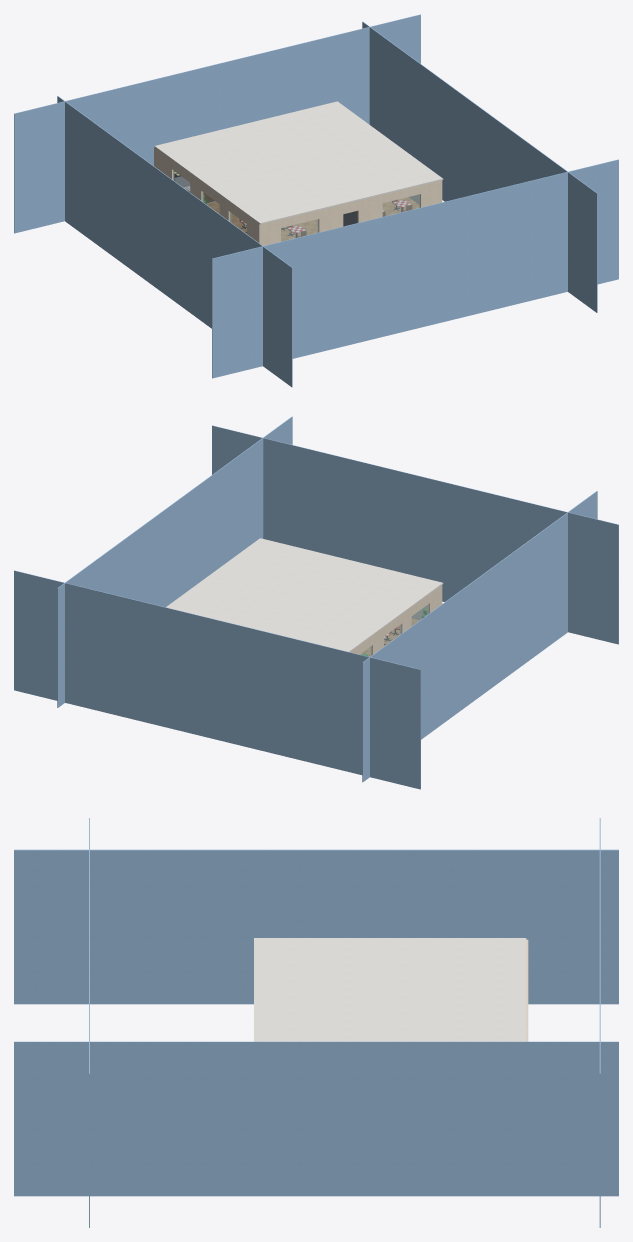
Rendered from interior.glb.
The picture shows the model from 3 angles, top to bottom: view 1: azimuth 30°, elevation 25°; view 2: azimuth 150°, elevation 25°; view 3: azimuth 270°, elevation 25°; orthographic projection. The views are drawn at different scales.
Parts seen in each view (by area): view 1: Sky_Front, Sky_Back, Sky_West, Ceiling, Sky_East, House_Floor_Main, Walls_Front_01, Walls_Front_02, Walls_Front_Glass2, Walls_Front_Glass0; view 2: Sky_Back, Sky_Front, Sky_West, Ceiling, Sky_East; view 3: Sky_East, Sky_West, Ceiling, Sky_Back.
Boxes of the visible parts, x1,y1,x2,y2 form: Sky_Front: (212,159,618,378); Sky_Back: (14,14,420,233); Sky_West: (57,96,292,387); Ceiling: (154,101,443,224); Sky_East: (362,21,597,312); House_Floor_Main: (206,197,419,241); Walls_Front_01: (317,204,343,232); Walls_Front_02: (357,195,382,222); Walls_Front_Glass2: (382,194,420,216); Walls_Front_Glass0: (281,219,318,241); Sky_Back: (14,570,420,789); Sky_Front: (212,425,618,644); Sky_West: (362,491,597,782); Ceiling: (166,538,443,652); Sky_East: (57,416,292,707); Sky_East: (14,1041,618,1196); Sky_West: (14,849,618,1004); Ceiling: (254,938,526,1041); Sky_Back: (599,818,600,1227).
Size of the model in its own units: 32 by 9 by 32.
Materials: 22 (20 with a texture image).
